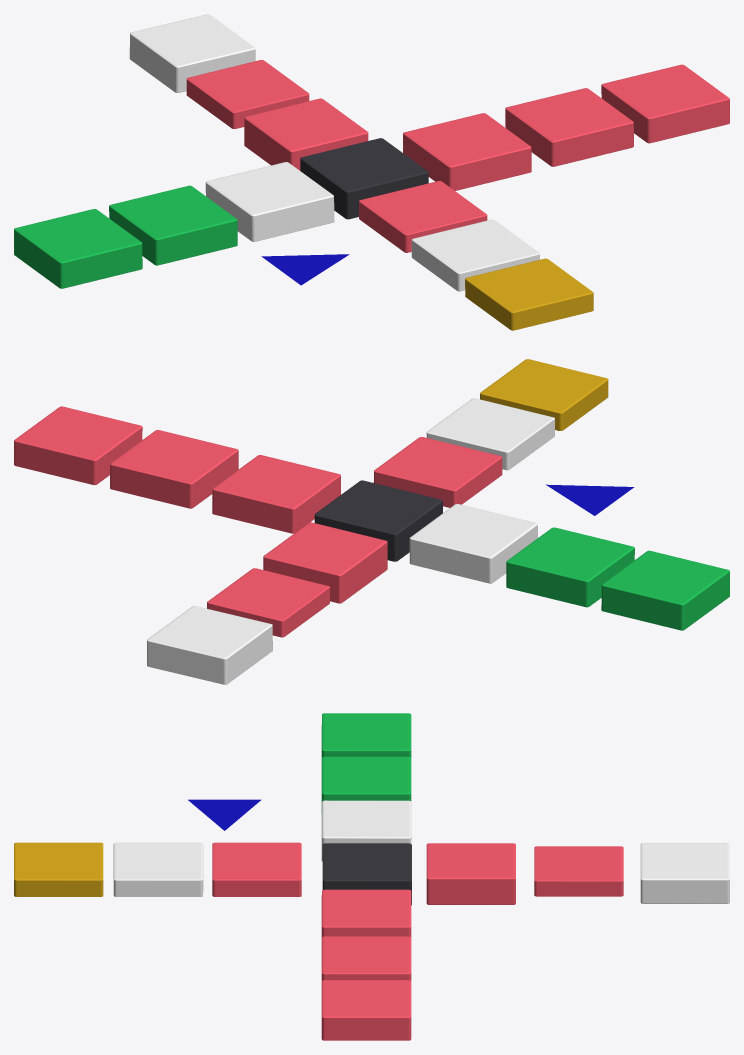
File: jump_domi4.gltf
The picture shows the model from 3 angles, top to bottom: view 1: azimuth 30°, elevation 25°; view 2: azimuth 150°, elevation 25°; view 3: azimuth 270°, elevation 25°; orthographic projection. The views are drawn at different scales.
Parts seen in each view (by area): view 1: Cube left (×3), Cube bottom (×3), Cube right (×2), Cube top (×2), Cube right center, Cube center, Cube top center, Triangle; view 2: Cube left (×3), Cube bottom (×3), Cube right (×2), Cube top (×2), Cube right center, Cube top center, Cube center, Triangle; view 3: Cube bottom (×3), Cube left (×3), Cube top (×2), Cube right (×2), Cube top center, Cube right center, Cube center, Triangle.
Part boxes in pixels (x1,y1,x2,y2): Cube left (×3): (14,162,334,288); Cube bottom (×3): (359,181,593,330); Cube right (×2): (505,64,729,166); Cube top (×2): (129,14,309,128); Cube right center: (403,113,531,190); Cube center: (300,138,428,219); Cube top center: (244,98,368,170); Triangle: (261,254,349,285); Cube left (×3): (409,504,729,630); Cube bottom (×3): (373,359,608,507); Cube right (×2): (14,406,238,508); Cube top (×2): (147,568,329,684); Cube right center: (212,455,340,533); Cube top center: (263,522,387,603); Cube center: (314,480,442,561); Triangle: (546,484,634,515); Cube bottom (×3): (14,842,301,896); Cube left (×3): (321,713,411,861); Cube top (×2): (534,843,729,903); Cube right (×2): (321,936,411,1040); Cube top center: (426,843,515,904); Cube right center: (321,889,411,947); Cube center: (322,843,411,905); Triangle: (188,799,261,830).
Bounding box in the file's own units: 9.71 × 0.4093 × 9.61.
